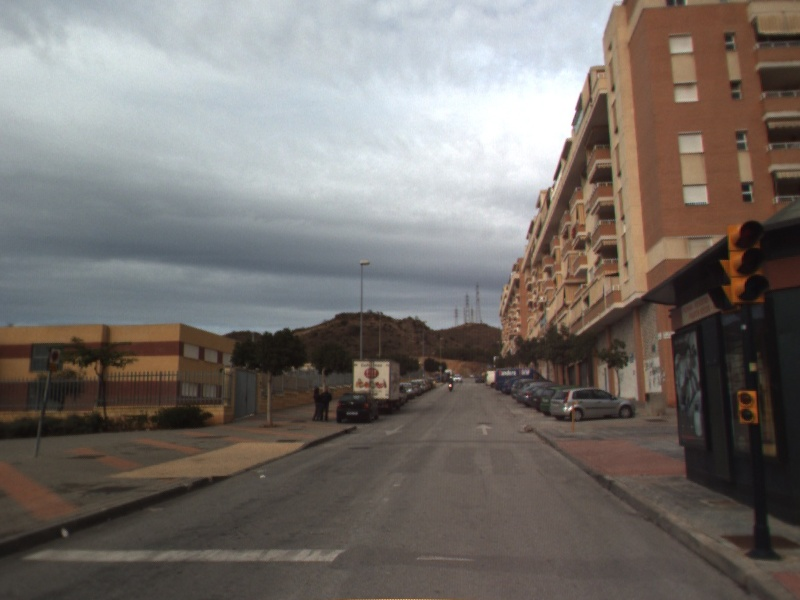STRAIGHT: (474, 422, 495, 437)
